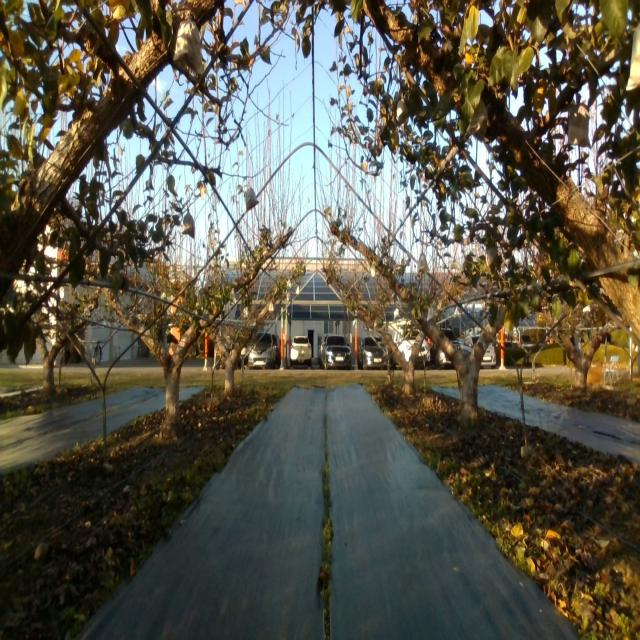pearbags: (172, 18, 204, 74), (567, 103, 591, 149), (244, 188, 259, 213), (182, 210, 195, 238), (417, 253, 429, 274)
